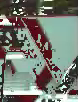Give way: (13, 9, 77, 82)
